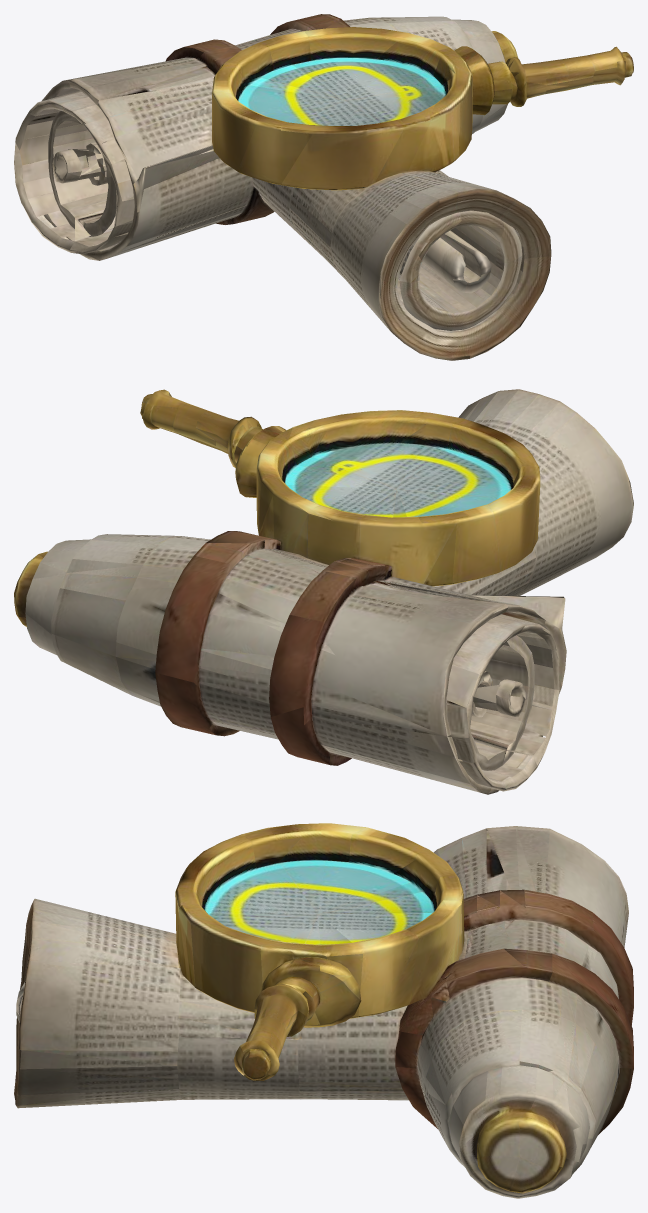
Rendered from fine_print.glb.
3 views of the same model, one above another, from view 1: azimuth 30°, elevation 25°; view 2: azimuth 150°, elevation 25°; view 3: azimuth 270°, elevation 25° (orthographic). The views are drawn at different scales.
Bounding box in the file's own units: 0.998 × 0.3955 × 0.9941.
1 material, 1 textured.
